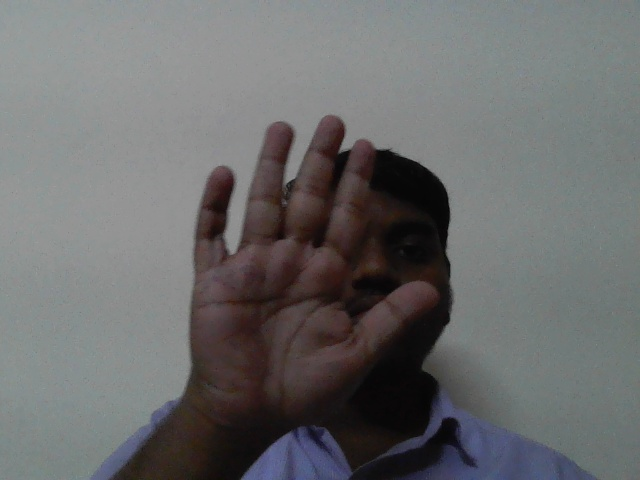Hello: (175, 101, 449, 421)
